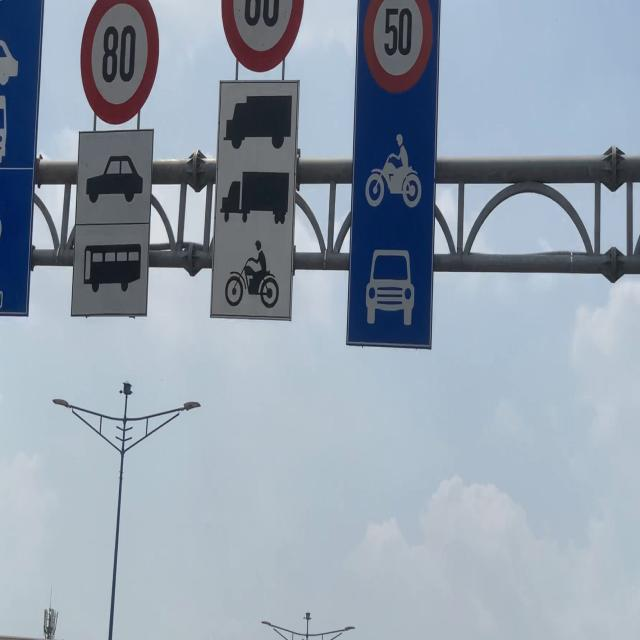Toc do toi da: (80, 0, 159, 124), (361, 0, 430, 97)
